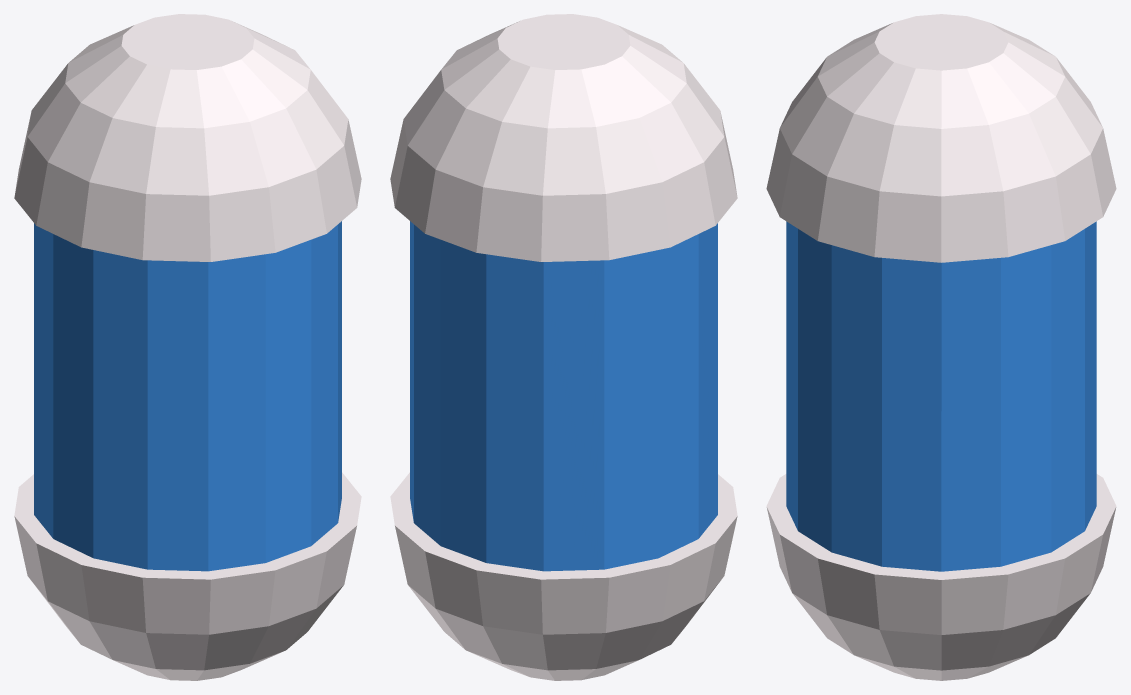
The model's file is Hydrogen.fbx.
The picture shows the model from 3 angles, left to right: view 1: azimuth 30°, elevation 25°; view 2: azimuth 150°, elevation 25°; view 3: azimuth 270°, elevation 25°; orthographic projection.
Visible parts, largest first — view 1: Glass, SideTop, SideBottom; view 2: Glass, SideTop, SideBottom; view 3: Glass, SideTop, SideBottom.
Boxes of the visible parts, x1,y1,x2,y2 form: Glass: (34, 221, 341, 571); SideTop: (14, 14, 361, 261); SideBottom: (14, 472, 361, 680); Glass: (410, 221, 717, 571); SideTop: (390, 14, 737, 261); SideBottom: (390, 472, 737, 680); Glass: (786, 221, 1096, 571); SideTop: (766, 14, 1116, 262); SideBottom: (766, 474, 1116, 680).
Size of the model in its own units: 121 by 233 by 121.
